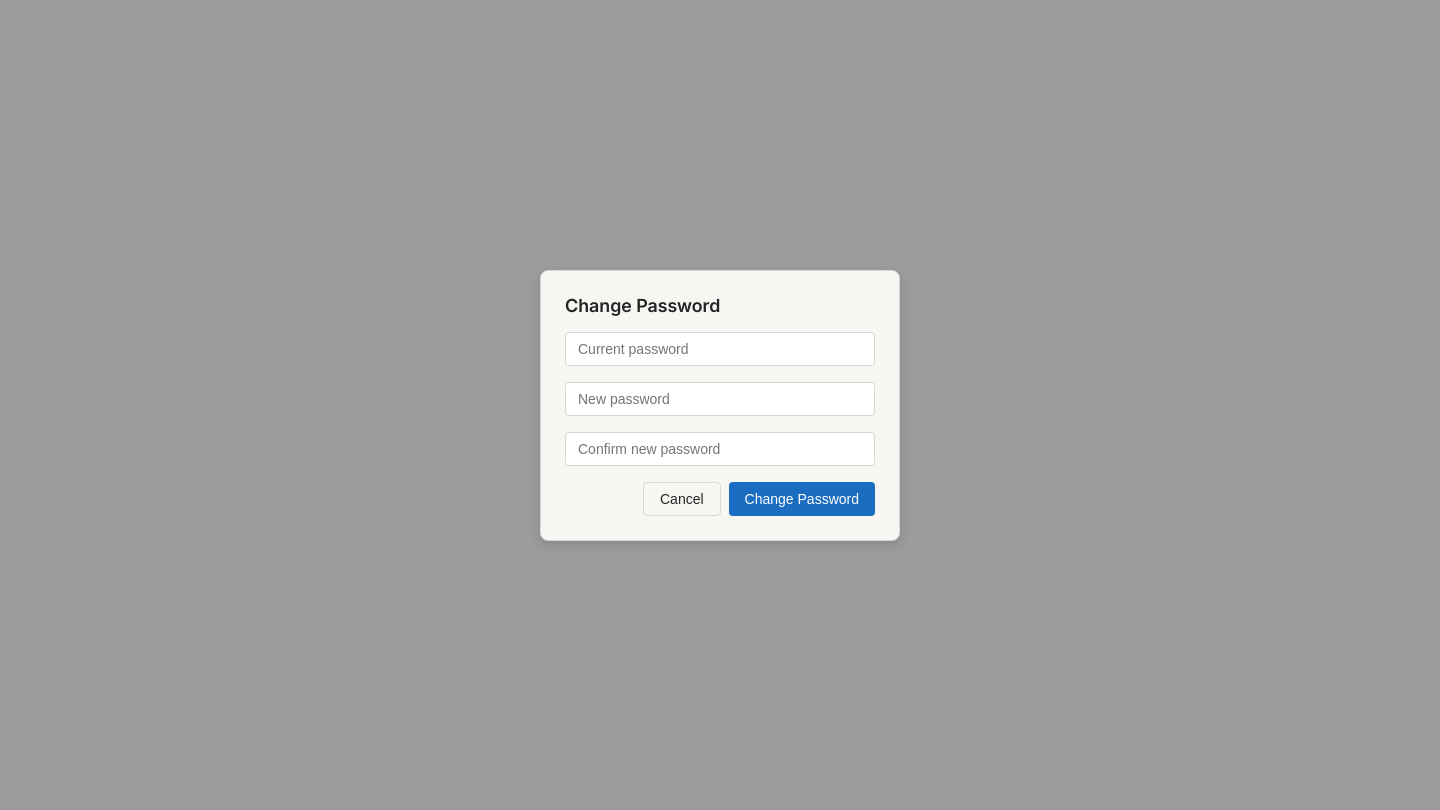
Scenario: ChangePasswordModal › blocks submission when new password and confirmation do not match
The width and height of the screenshot is (1440, 810).
Type "old-pass" into the password field with test id "change-password-current" at (720, 348), box x1=565 y1=332 x2=875 y2=366
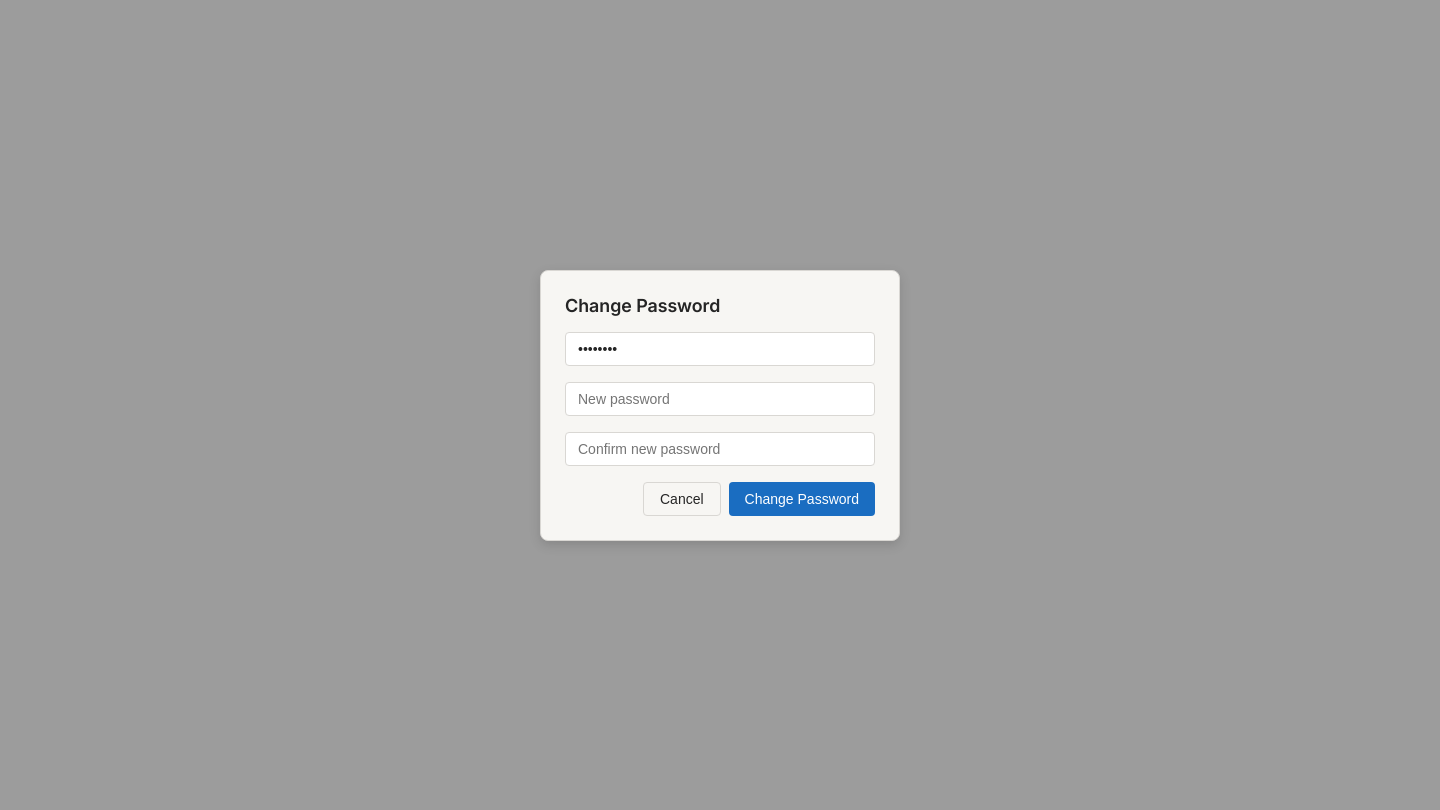
Type "new-pass-1" into the password field with test id "change-password-new" at (720, 398), box x1=565 y1=382 x2=875 y2=416
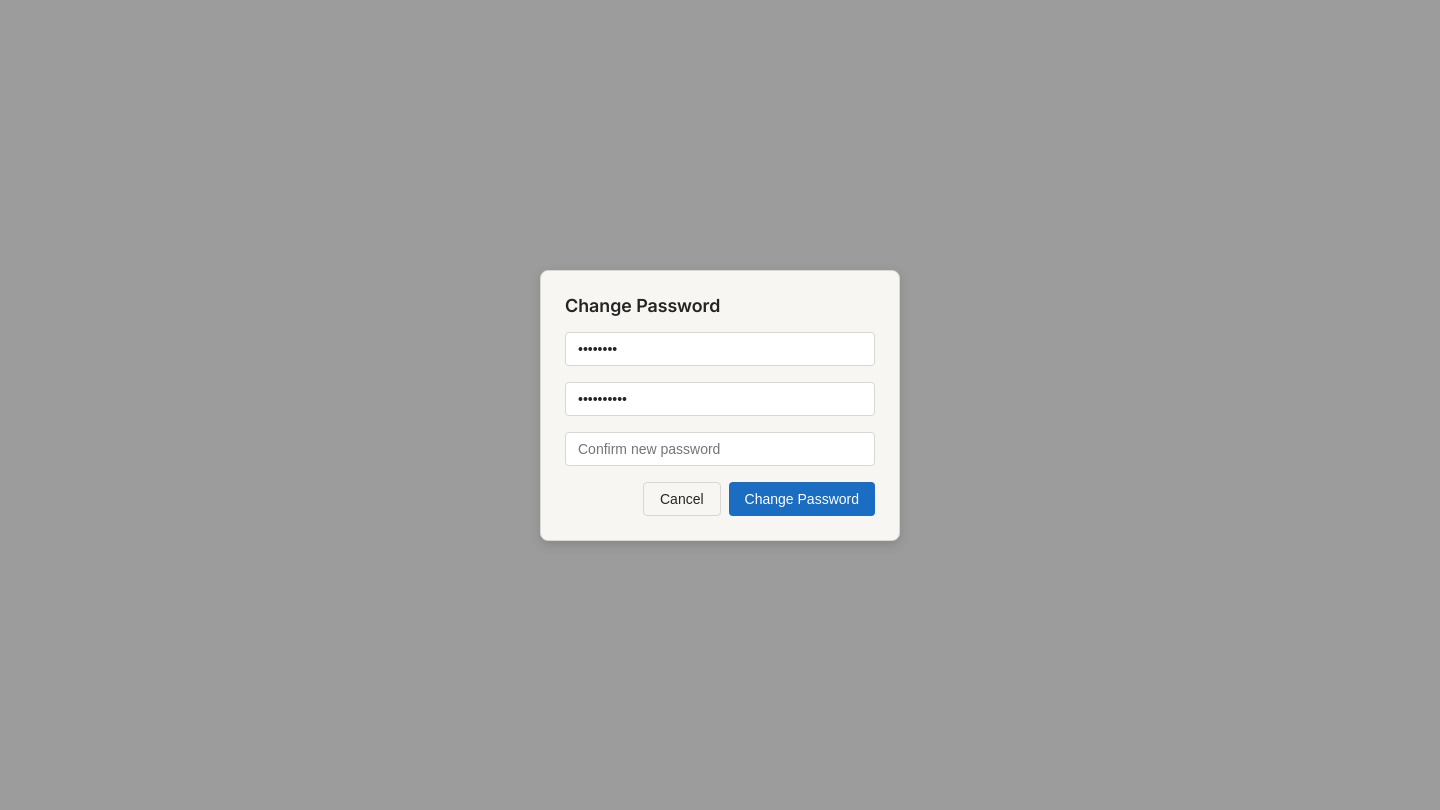
Type "new-pass-2" into the password field with test id "change-password-confirm" at (720, 448), box x1=565 y1=432 x2=875 y2=466
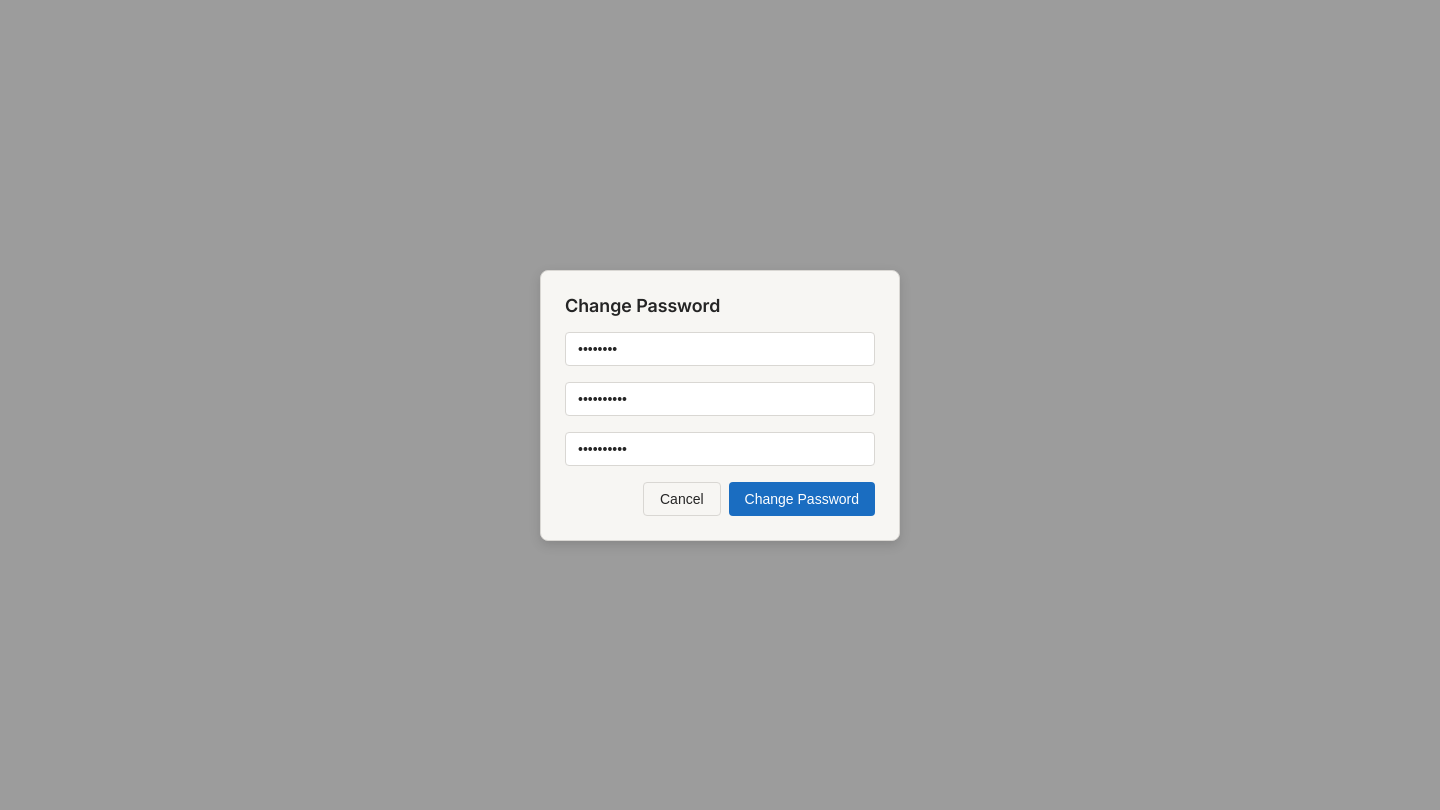
Submit the form, box x1=565 y1=332 x2=875 y2=516
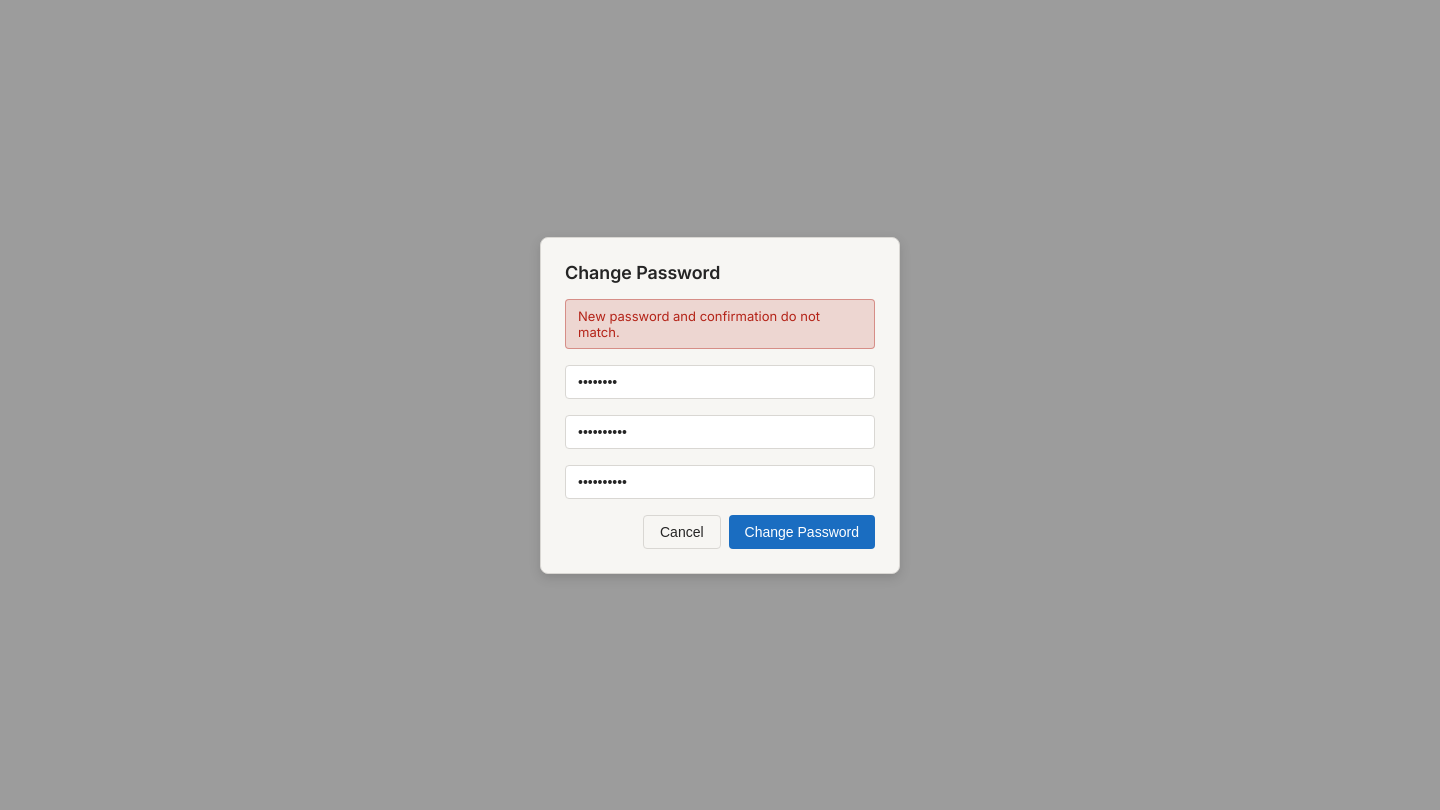
Expected: the message with test id "change-password-error" shows "do not match", x1=578 y1=308 x2=820 y2=340
